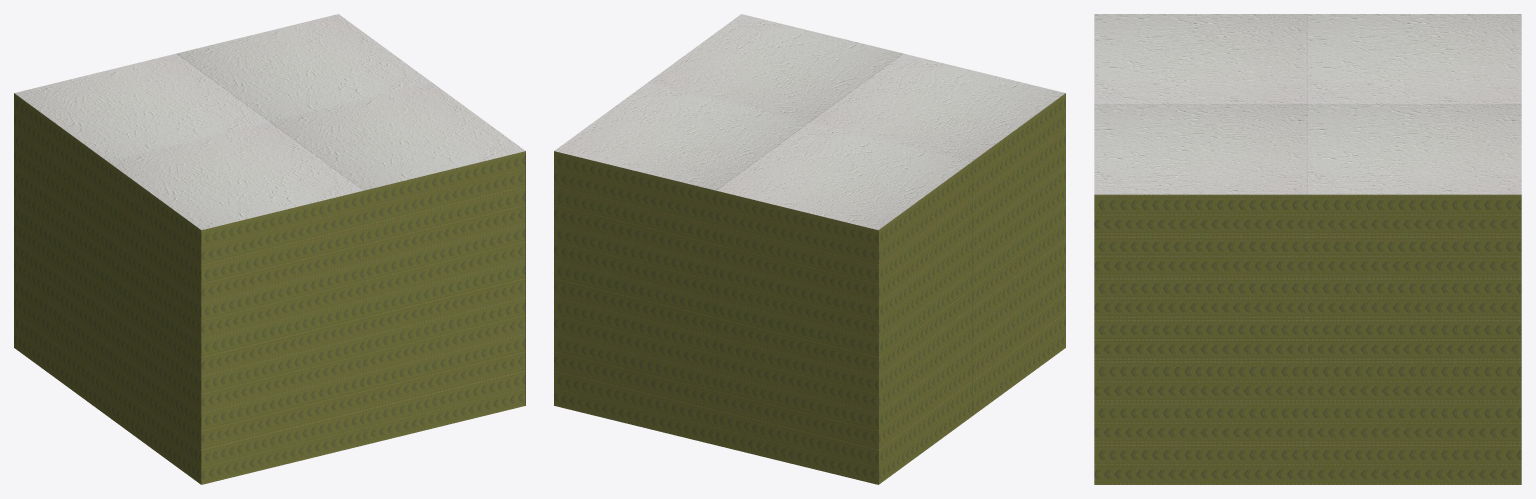
The model's file is room.glb.
3 renders of one model, left to right at view 1: azimuth 30°, elevation 25°; view 2: azimuth 150°, elevation 25°; view 3: azimuth 270°, elevation 25°, orthographic. The views are drawn at different scales.
Visible parts, largest first — view 1: Wall.006, Wall.007, Wall.005, Wall.004, Celing.002, Celing.003, Celing.004, Celing.001; view 2: Wall.008, Wall.009, Wall.004, Wall.005, Celing.001, Celing.004, Celing.002, Celing.003; view 3: Wall.002, Wall.003, Celing.001, Celing.002, Celing.003, Celing.004.
Part boxes in pixels (x1=…): Wall.006: x1=201, y1=191, x2=363, y2=484; Wall.007: x1=363, y1=151, x2=525, y2=445; Wall.005: x1=107, y1=162, x2=201, y2=484; Wall.004: x1=14, y1=93, x2=107, y2=415; Celing.002: x1=14, y1=53, x2=269, y2=161; Celing.003: x1=270, y1=82, x2=525, y2=190; Celing.004: x1=108, y1=122, x2=363, y2=230; Celing.001: x1=176, y1=14, x2=431, y2=121; Wall.008: x1=554, y1=151, x2=716, y2=445; Wall.009: x1=716, y1=191, x2=878, y2=484; Wall.004: x1=878, y1=162, x2=972, y2=484; Wall.005: x1=972, y1=93, x2=1065, y2=415; Celing.001: x1=554, y1=82, x2=809, y2=190; Celing.004: x1=810, y1=53, x2=1065, y2=161; Celing.002: x1=716, y1=122, x2=971, y2=230; Celing.003: x1=648, y1=14, x2=903, y2=121; Wall.002: x1=1094, y1=194, x2=1307, y2=484; Wall.003: x1=1308, y1=194, x2=1521, y2=484; Celing.001: x1=1308, y1=104, x2=1521, y2=194; Celing.002: x1=1308, y1=14, x2=1521, y2=104; Celing.003: x1=1094, y1=104, x2=1307, y2=194; Celing.004: x1=1094, y1=14, x2=1307, y2=104.
Bounding box in the file's own units: 2.47 × 1.85 × 2.47.
1 material, 1 textured.
